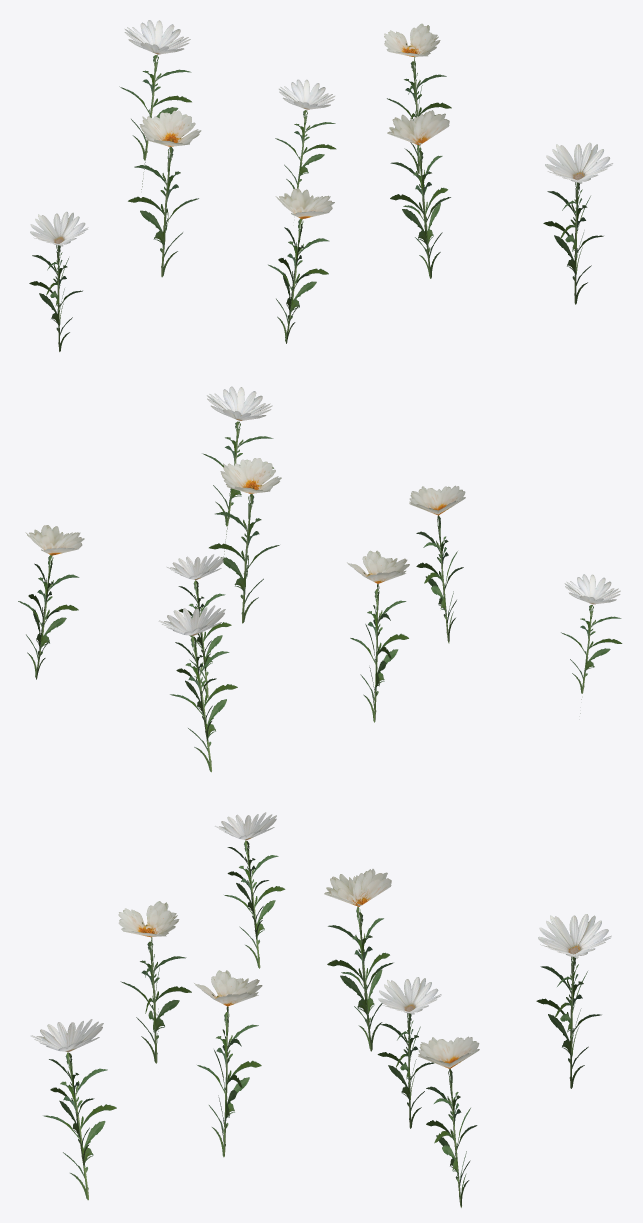
Rendered from SM_Flowers_01.glb.
The picture shows the model from 3 angles, top to bottom: view 1: azimuth 30°, elevation 25°; view 2: azimuth 150°, elevation 25°; view 3: azimuth 270°, elevation 25°; orthographic projection. The views are drawn at different scales.
Parts seen in each view (by area): view 1: SM_Flowers_01; view 2: SM_Flowers_01; view 3: SM_Flowers_01.
Part boxes in pixels (box(x1,y1,x2,y2)): SM_Flowers_01: box(29, 20, 612, 351); SM_Flowers_01: box(18, 386, 622, 772); SM_Flowers_01: box(31, 812, 611, 1207).
Bounding box in the file's own units: 0.8795 × 0.2616 × 0.8285.
1 material, 1 textured.
